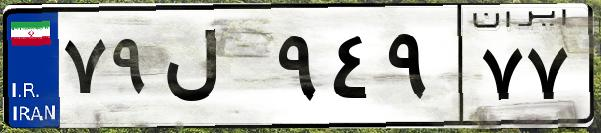4: (330, 28, 385, 110)
7: (57, 26, 110, 100), (475, 38, 525, 113), (525, 38, 570, 115)
9: (270, 28, 330, 110), (385, 28, 445, 110), (110, 28, 158, 98)
ل: (158, 20, 270, 120)
